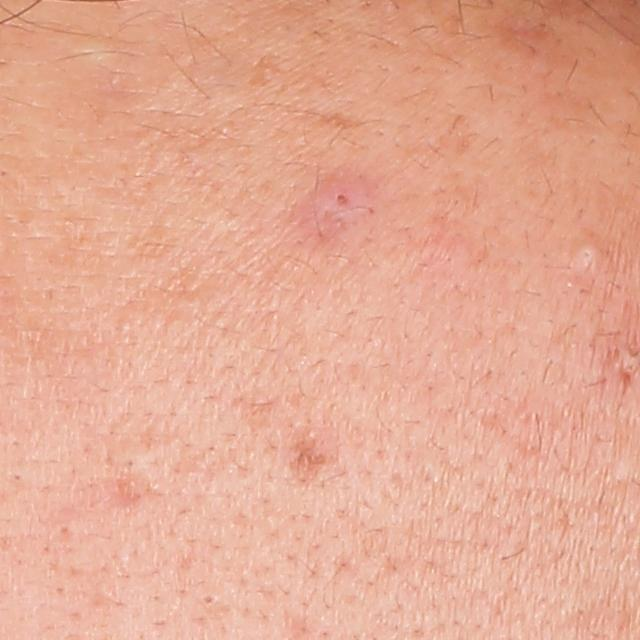comedo: (568, 236, 606, 271), (197, 591, 216, 606)
papule: (294, 167, 377, 225)
